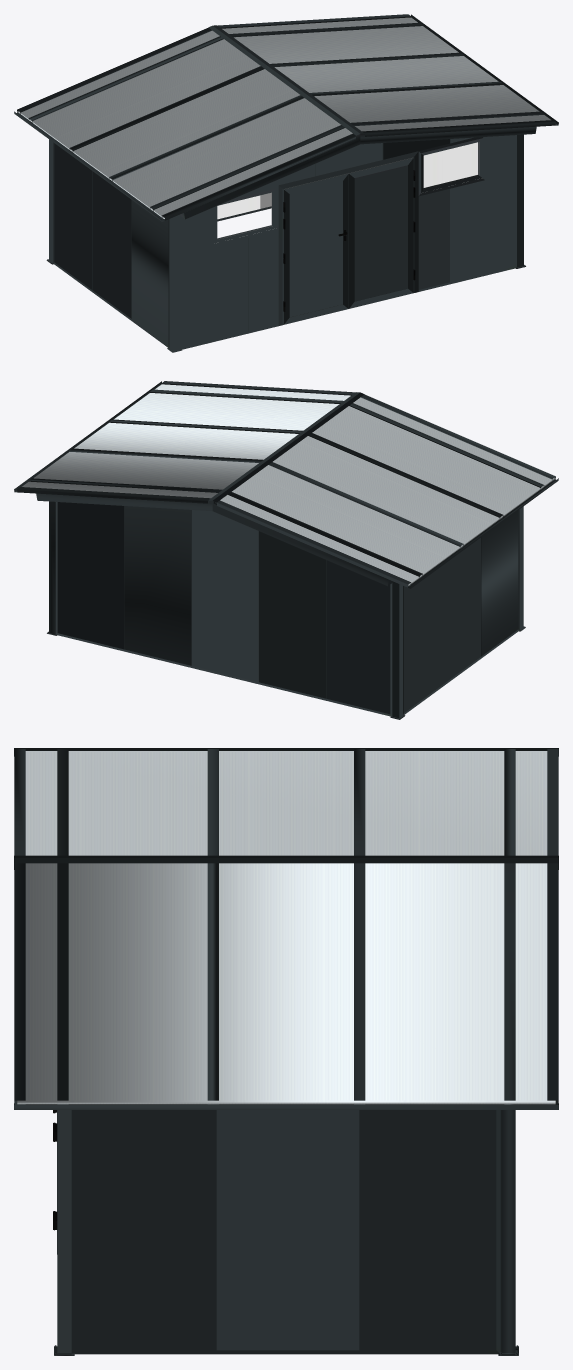
3 renders of one model, top to bottom at view 1: azimuth 30°, elevation 25°; view 2: azimuth 150°, elevation 25°; view 3: azimuth 270°, elevation 25°, orthographic. The views are drawn at different scales.
Visible parts, largest first — view 1: priximbattable_net_abris_de_jardin_640007_abri_de_jardin_lav, folha, folha_2, porta_avec_hublot_1; view 2: priximbattable_net_abris_de_jardin_640007_abri_de_jardin_lav; view 3: priximbattable_net_abris_de_jardin_640007_abri_de_jardin_lav.
Boxes of the visible parts, x1=… form: priximbattable_net_abris_de_jardin_640007_abri_de_jardin_lav: x1=14, y1=14, x2=558, y2=352; folha: x1=348, y1=157, x2=415, y2=308; folha_2: x1=283, y1=173, x2=348, y2=324; porta_avec_hublot_1: x1=278, y1=151, x2=418, y2=325; priximbattable_net_abris_de_jardin_640007_abri_de_jardin_lav: x1=14, y1=381, x2=558, y2=719; priximbattable_net_abris_de_jardin_640007_abri_de_jardin_lav: x1=14, y1=748, x2=558, y2=1355.
Bounding box in the file's own units: 589 × 261 × 380.
Materials: 1 (1 with a texture image).
